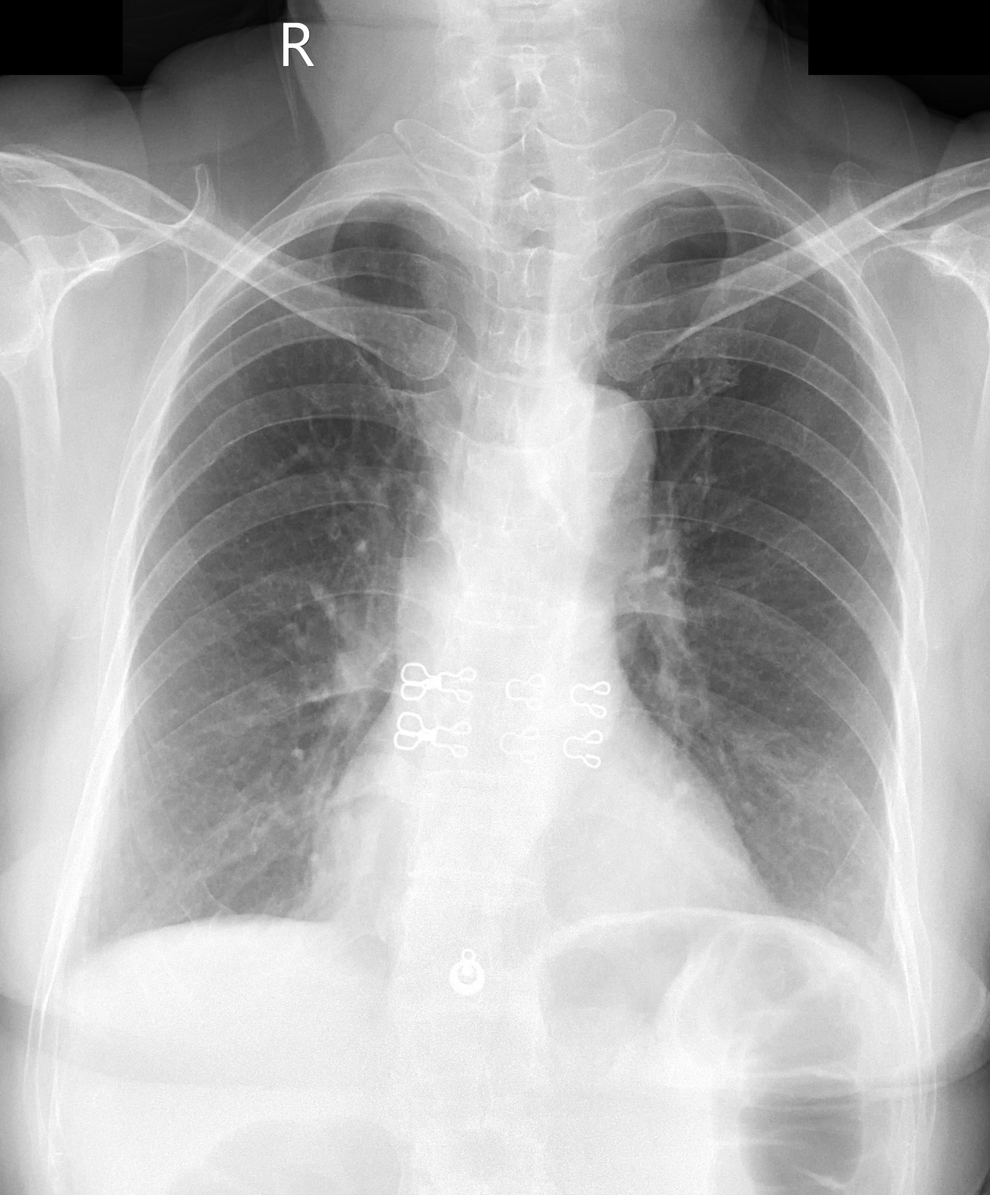Aortic enlargement: (533, 380, 654, 539)
Cardiomegaly: (297, 778, 781, 949)
